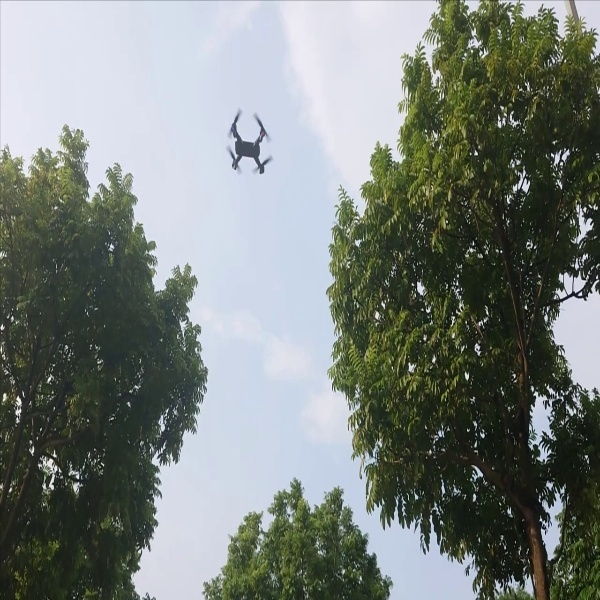drone: (216, 99, 274, 182)
